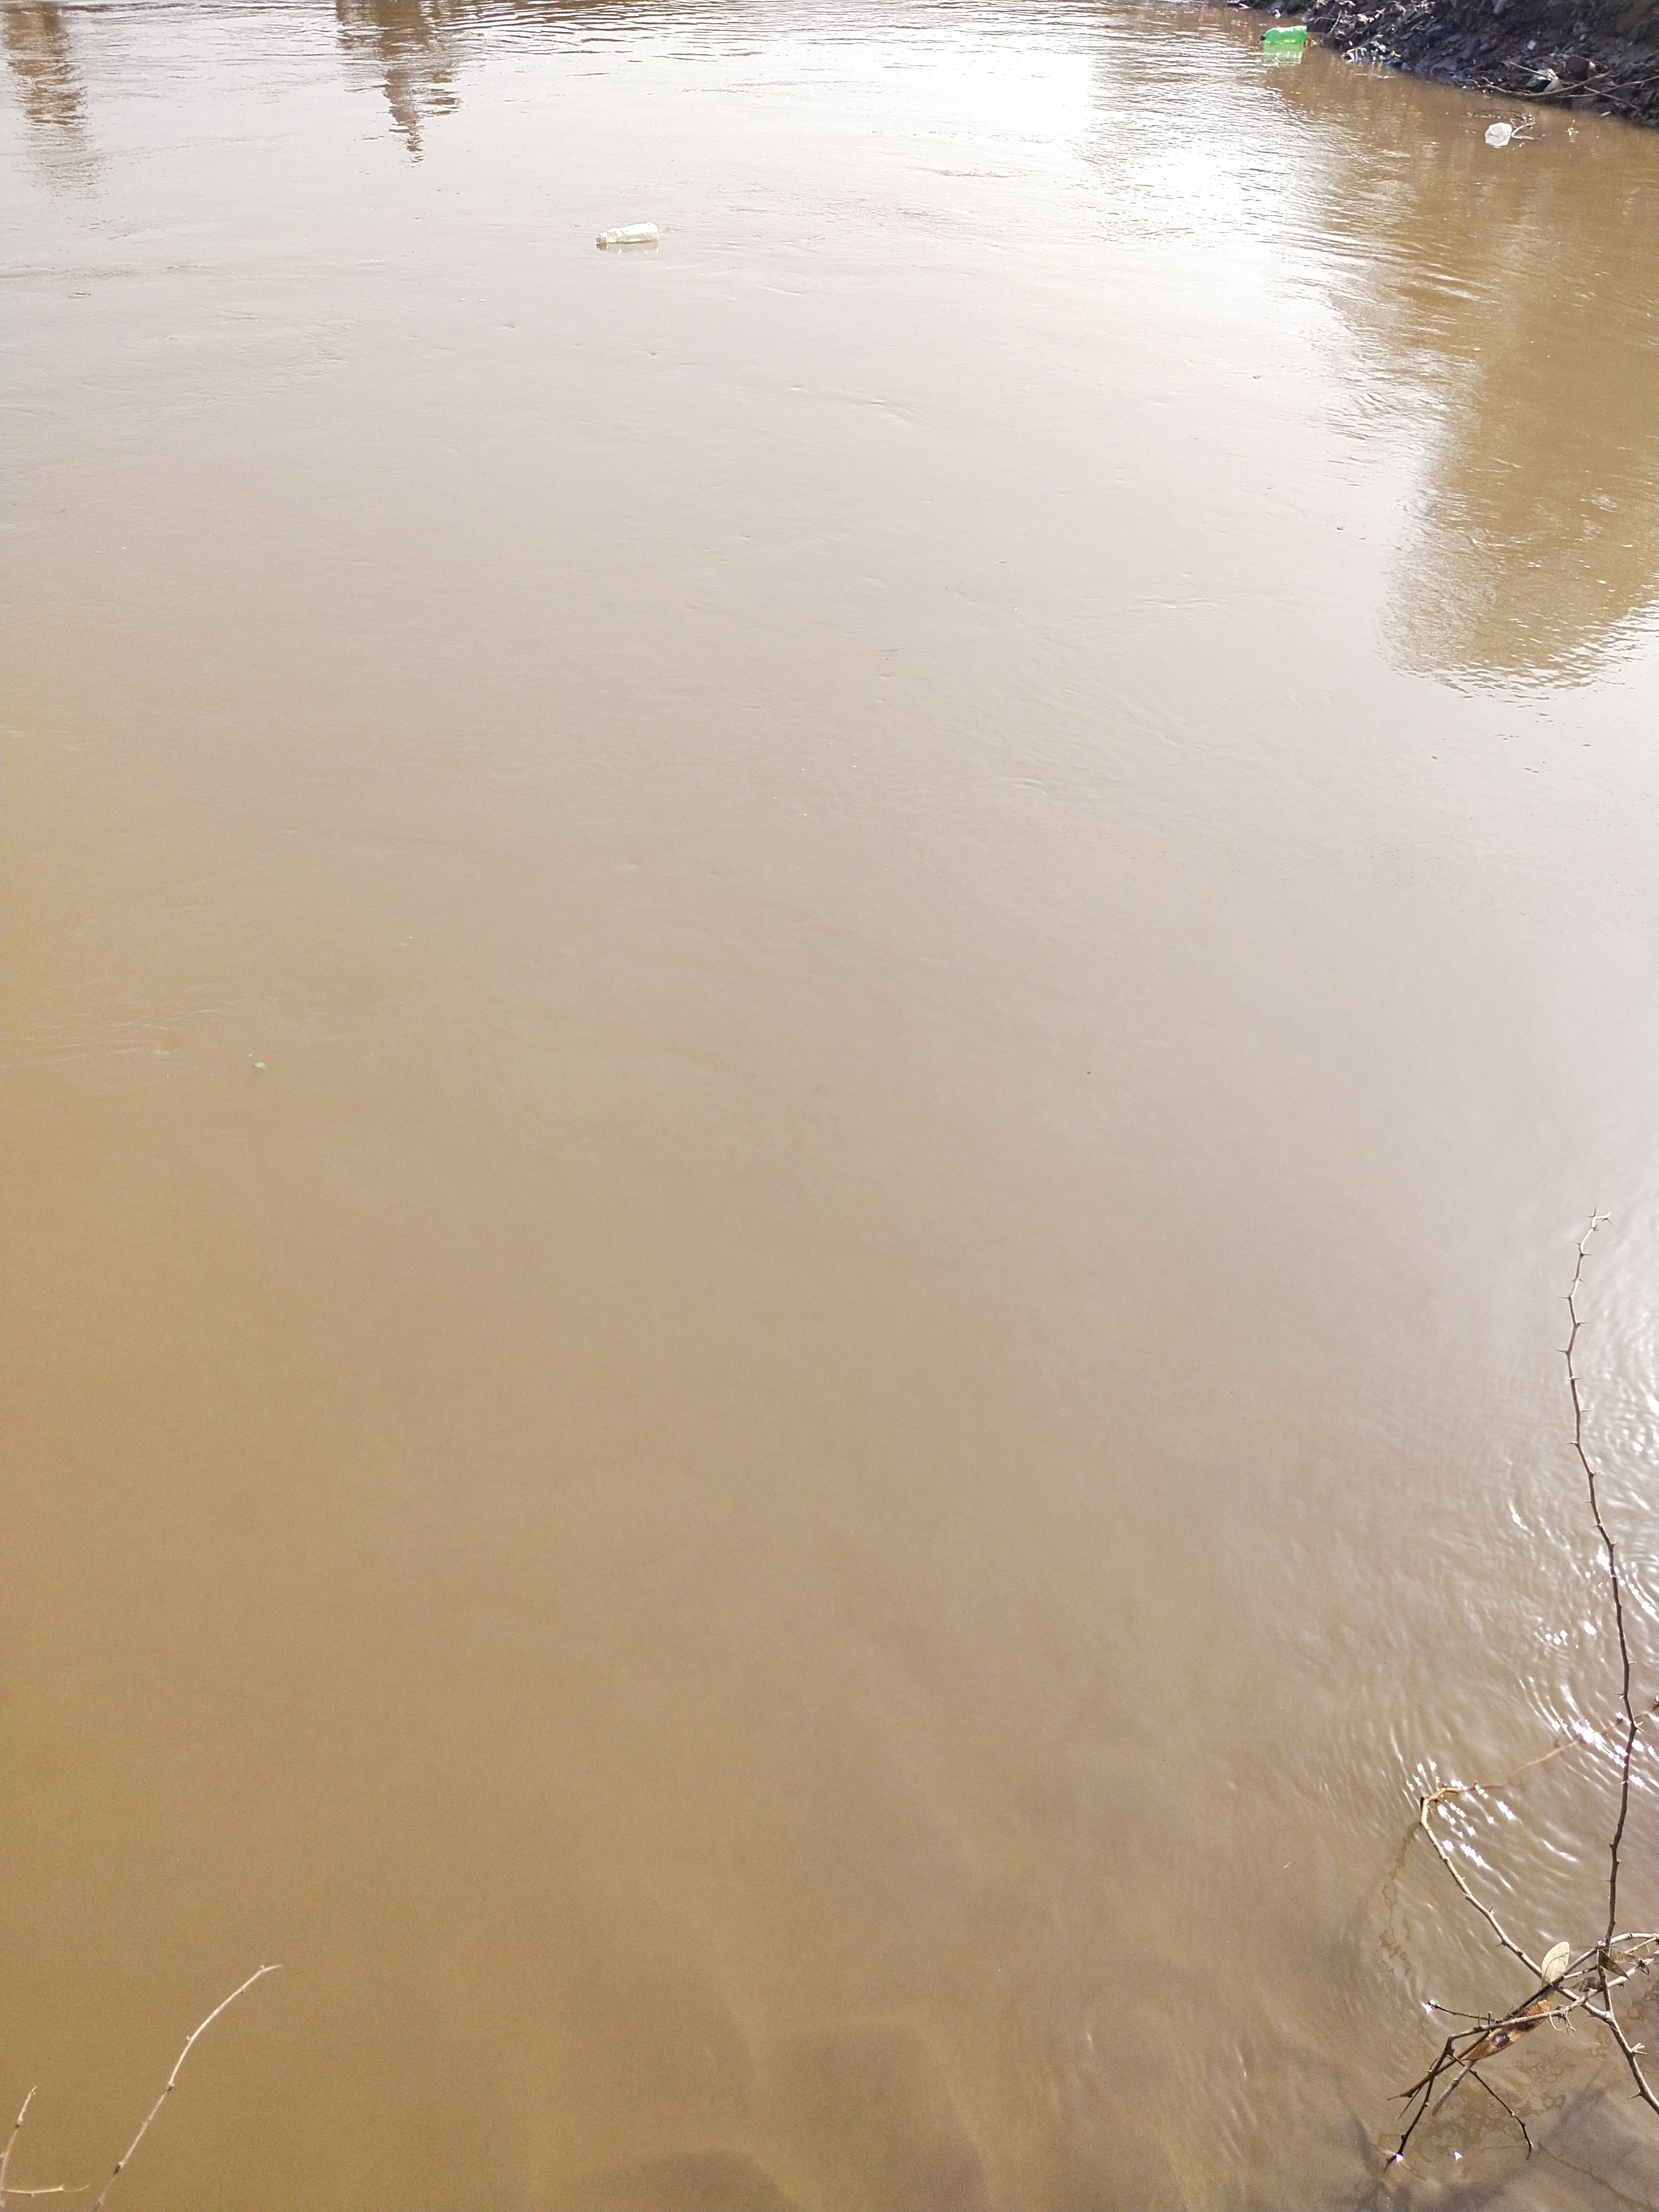Plastic Bottle: (596, 221, 657, 244), (1260, 26, 1307, 44)
